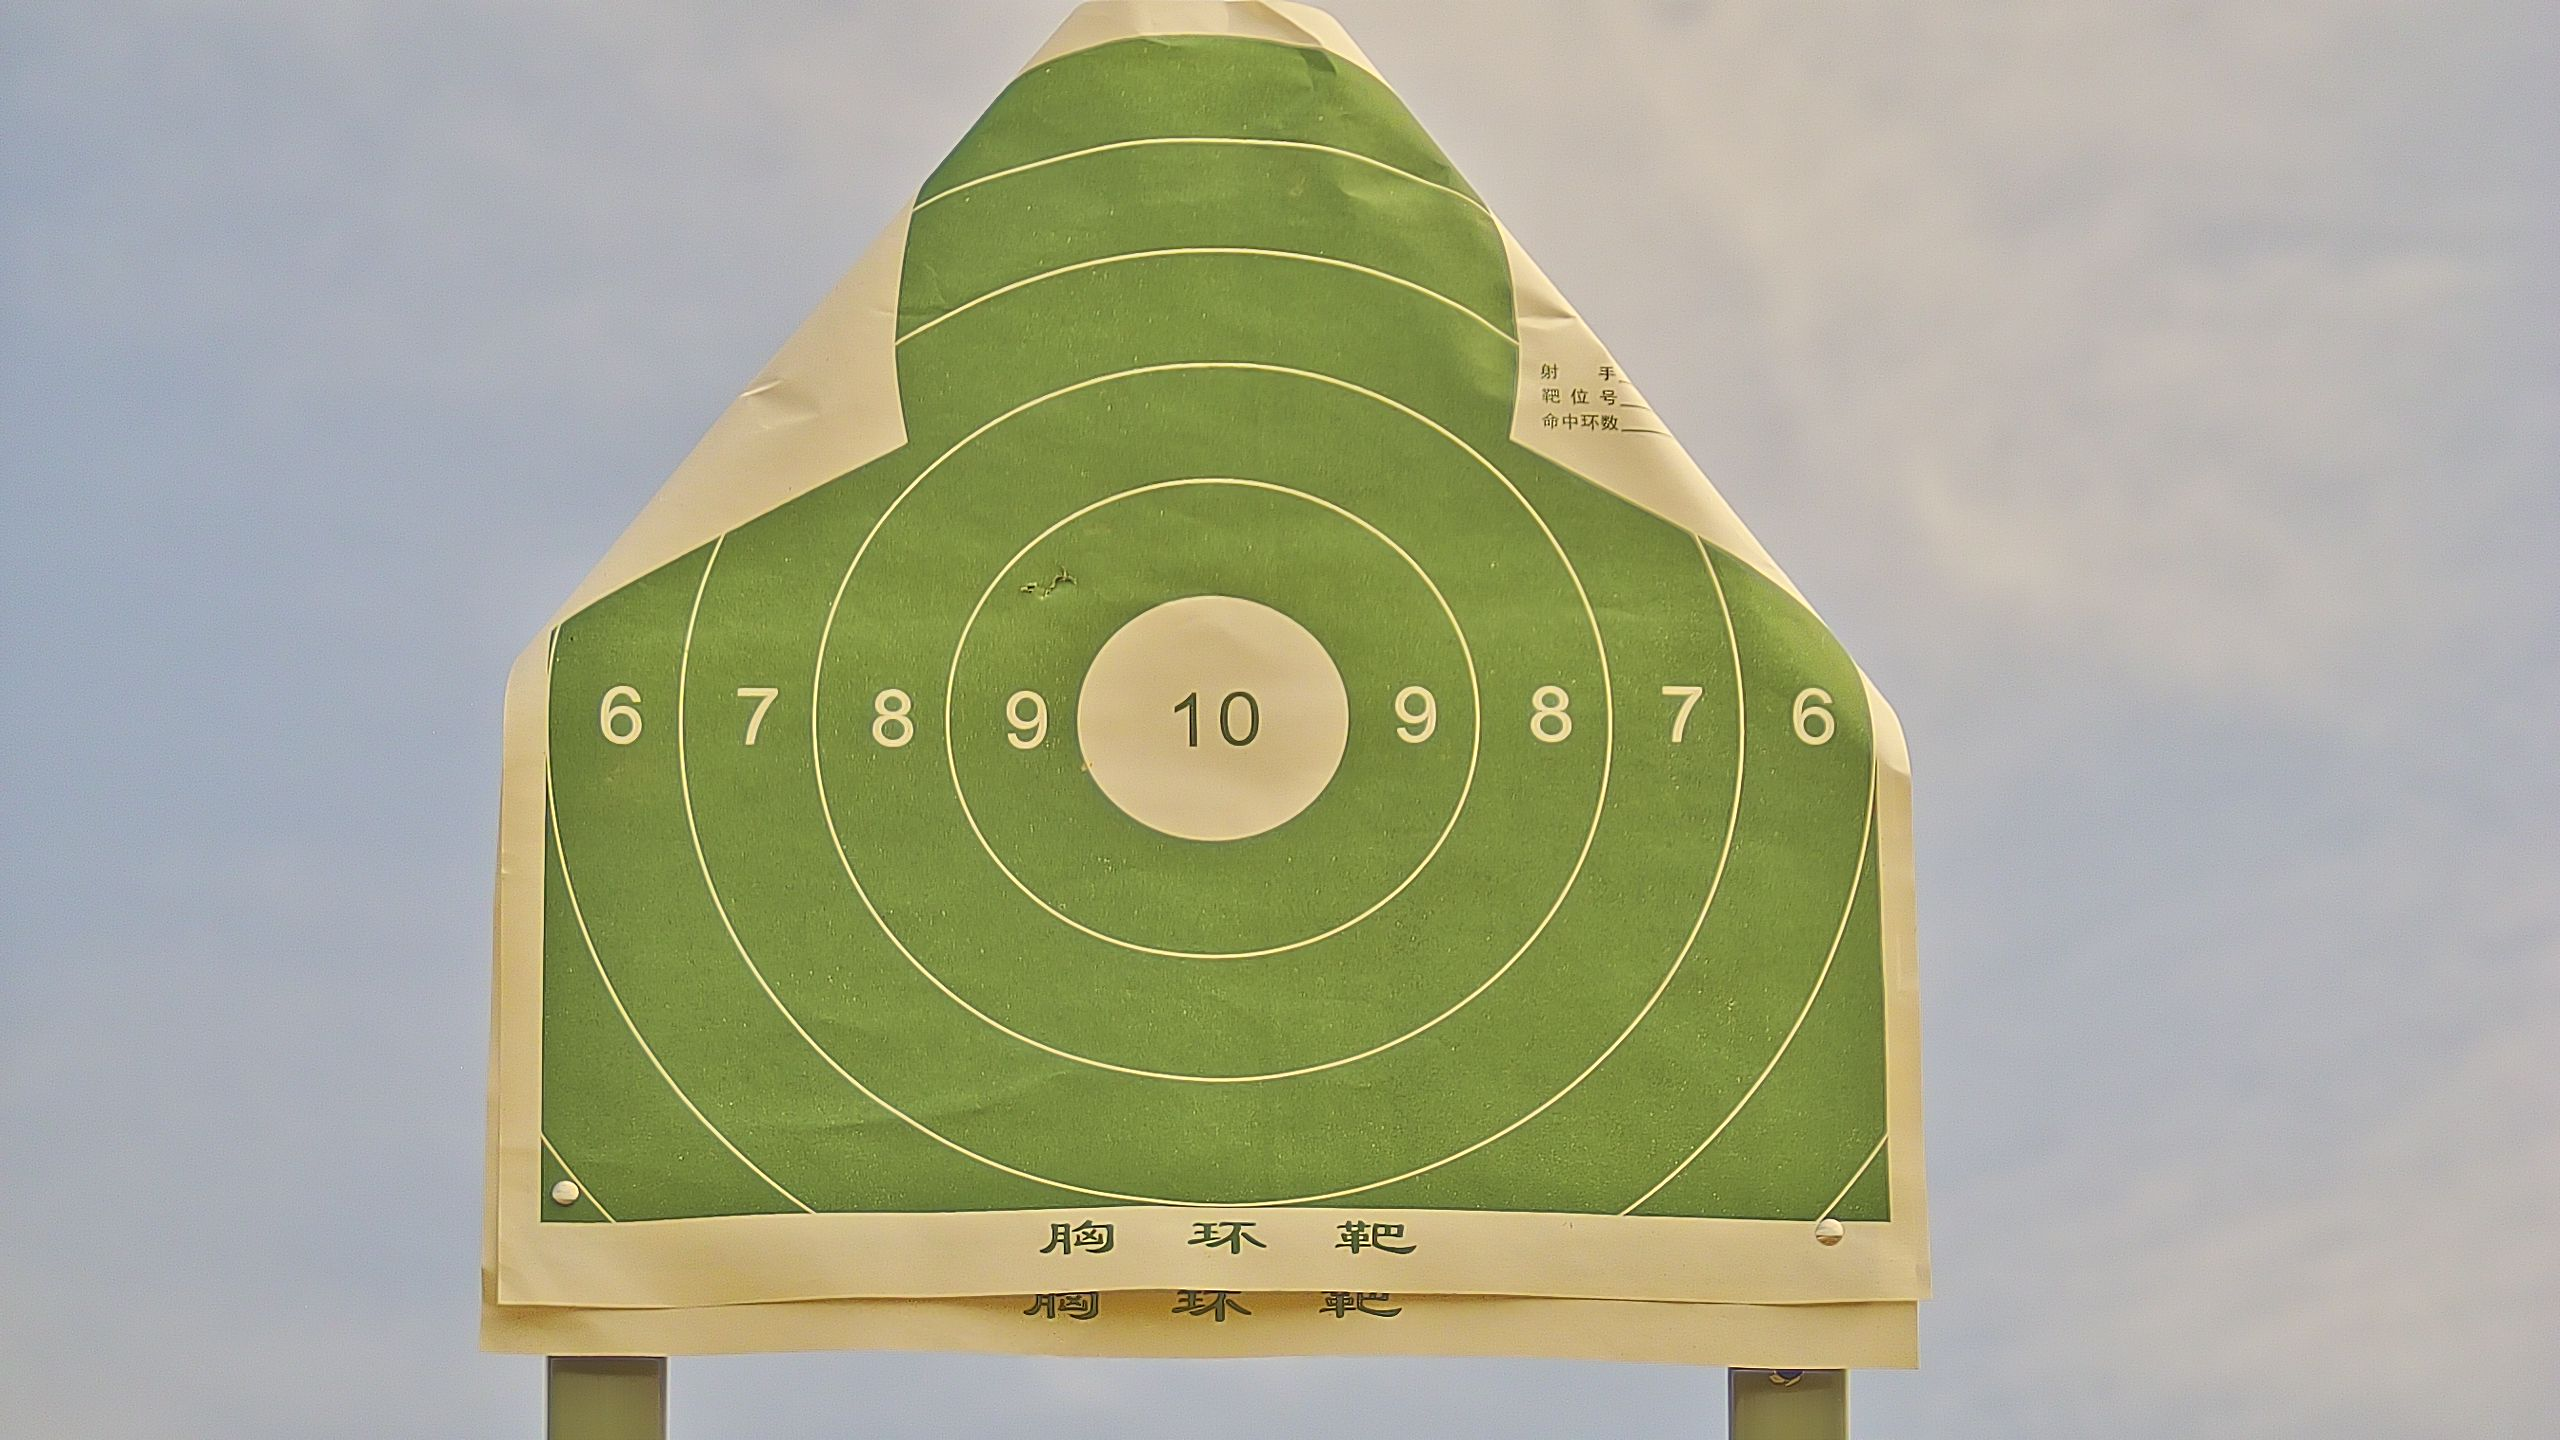kernel: (1204, 719, 1211, 724)
target: (536, 33, 1897, 1234)
ten: (1073, 593, 1359, 842)
